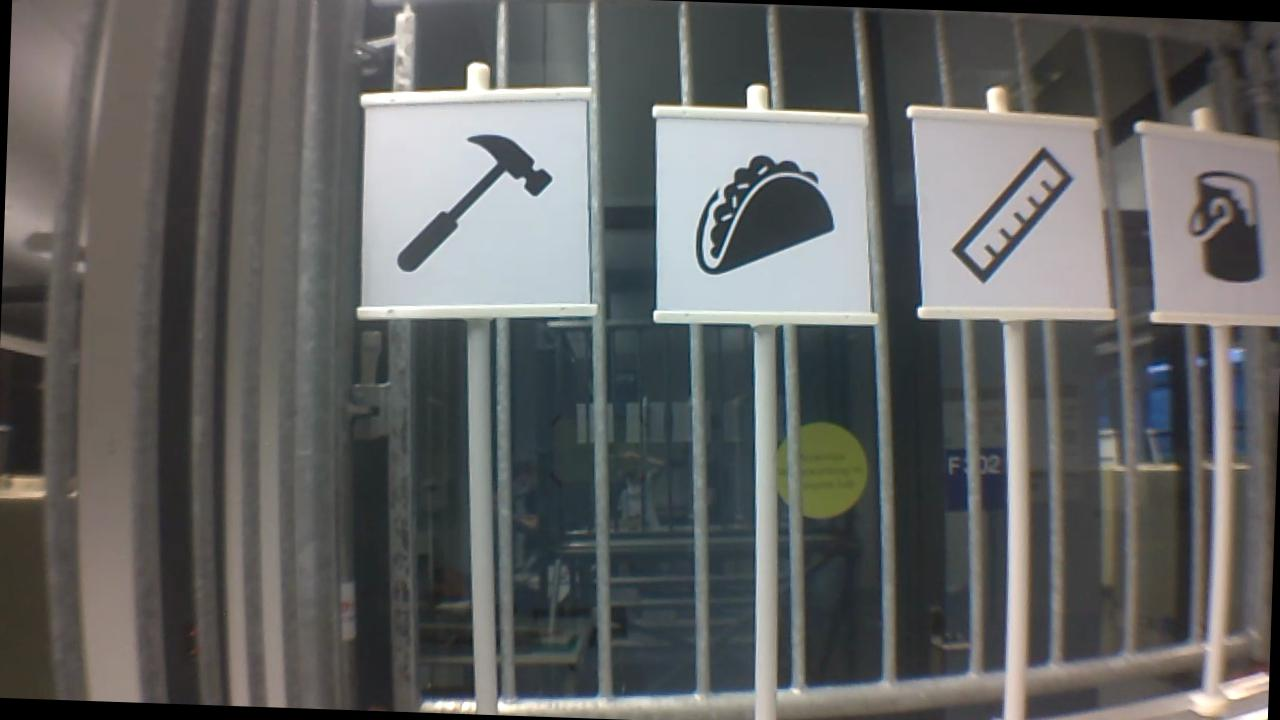bucket: (1181, 167, 1266, 293)
hammer: (392, 112, 563, 284)
ruler: (944, 138, 1081, 288)
taco: (674, 158, 844, 278)
